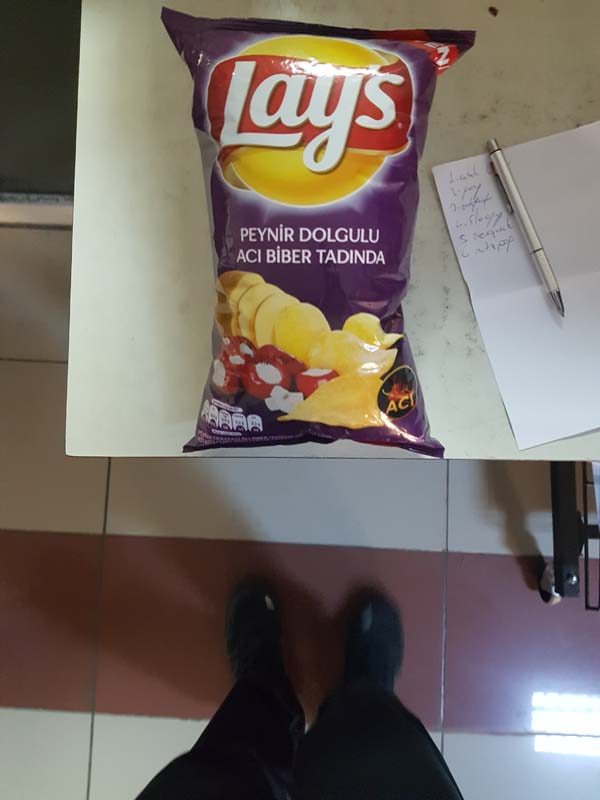layspeynirsoslu: (159, 6, 452, 461)
